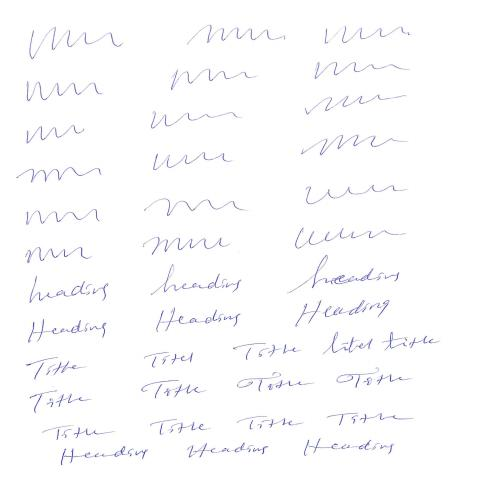Heading: (287, 255, 401, 295), (29, 27, 124, 60), (149, 266, 243, 297), (294, 299, 391, 328), (293, 228, 407, 251), (300, 135, 410, 158), (28, 275, 109, 304), (154, 307, 242, 333), (187, 26, 287, 47), (27, 319, 108, 344), (59, 447, 150, 466), (237, 374, 316, 395), (26, 82, 104, 103), (337, 368, 412, 389), (303, 440, 395, 457), (29, 391, 92, 415), (26, 357, 86, 381), (230, 343, 300, 362), (322, 333, 377, 356), (24, 246, 93, 264), (188, 444, 269, 459), (328, 413, 413, 427), (142, 381, 208, 399), (43, 425, 115, 441), (383, 333, 442, 352), (235, 416, 305, 431), (150, 420, 212, 436), (143, 352, 195, 370)
